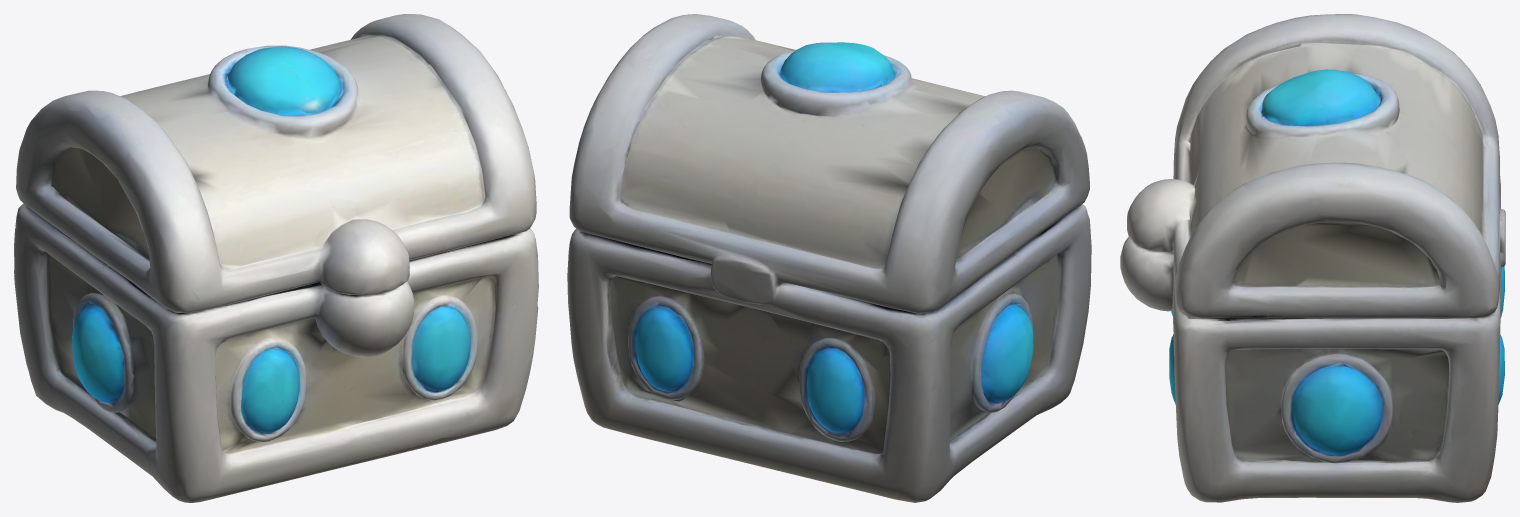
File: box-silver.glb
3 views of the same model, side by side, from view 1: azimuth 30°, elevation 25°; view 2: azimuth 150°, elevation 25°; view 3: azimuth 270°, elevation 25° (orthographic). The views are drawn at different scales.
Visible parts, largest first — view 1: tripo_node_5cb8eb28-85c9-48a8-a234-0ac203cae2d6; view 2: tripo_node_5cb8eb28-85c9-48a8-a234-0ac203cae2d6; view 3: tripo_node_5cb8eb28-85c9-48a8-a234-0ac203cae2d6.
Part boxes in pixels (x1,y1,x2,y2): tripo_node_5cb8eb28-85c9-48a8-a234-0ac203cae2d6: [14, 14, 538, 502]; tripo_node_5cb8eb28-85c9-48a8-a234-0ac203cae2d6: [567, 14, 1091, 502]; tripo_node_5cb8eb28-85c9-48a8-a234-0ac203cae2d6: [1120, 14, 1505, 502].
Size of the model in its own units: 0.9998 by 0.882 by 0.8791.
Materials: 1 (1 with a texture image).
